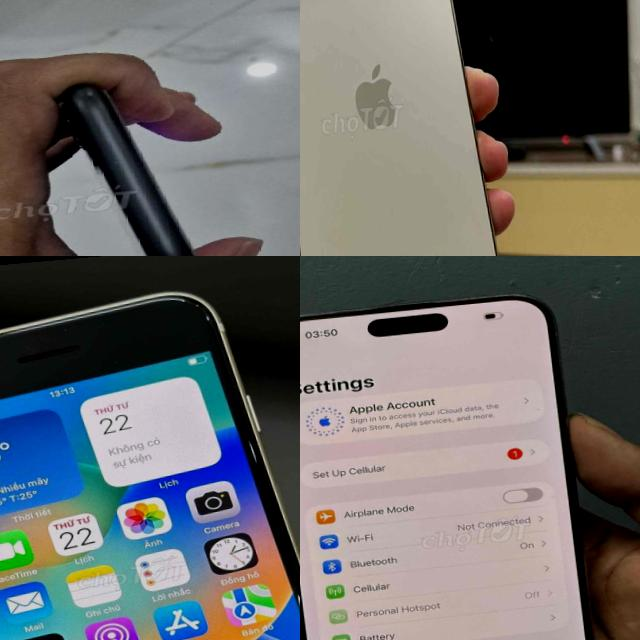gen_11: (39, 62, 220, 256)
gen_12_13: (300, 0, 516, 256)
gen_15: (300, 290, 629, 640)
gen_7_8: (0, 274, 300, 640)
